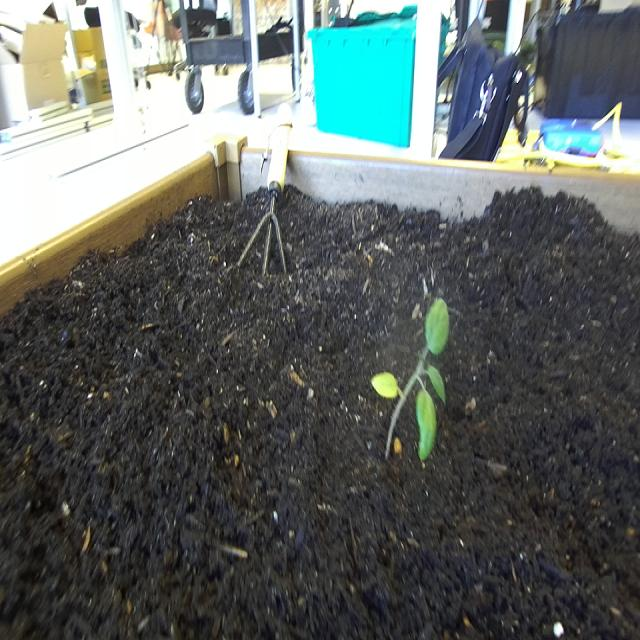Unhealthy: (368, 294, 452, 472)
